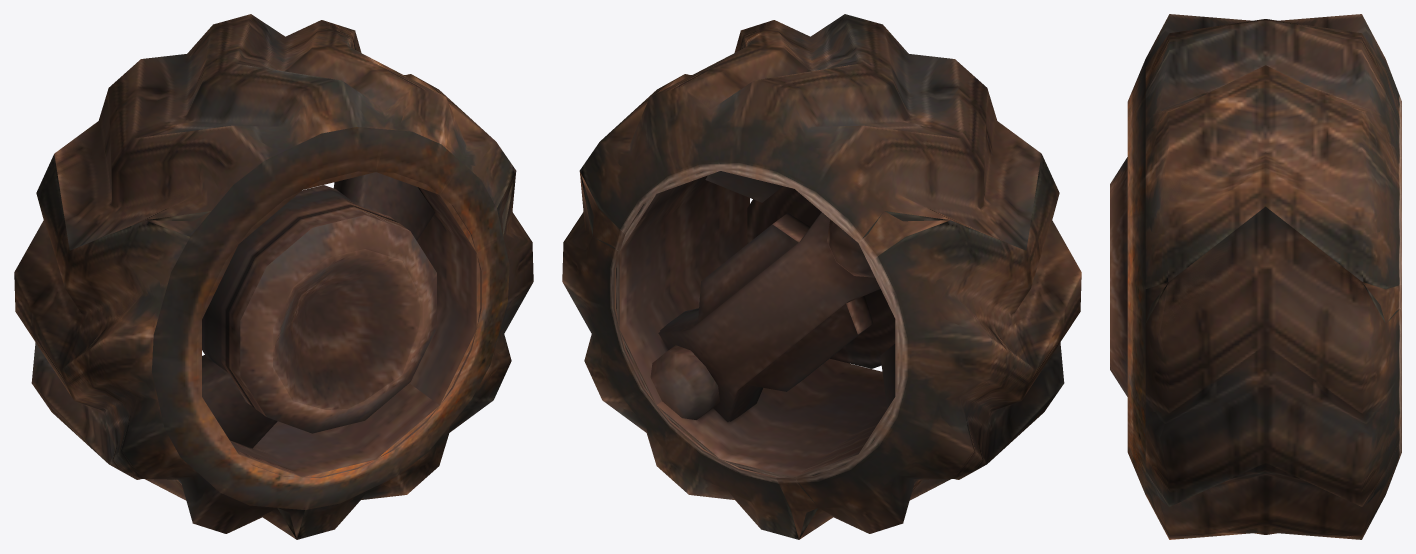
Rendered from Cheetah_WheelBackRight.DAE.
3 renders of one model, left to right at view 1: azimuth 30°, elevation 25°; view 2: azimuth 150°, elevation 25°; view 3: azimuth 270°, elevation 25°, orthographic. The views are drawn at different scales.
Visible parts, largest first — view 1: TireBack_LOD300, TireBack_LOD100, TireBack_LOD200; view 2: TireBack_LOD300, TireBack_LOD100, TireBack_LOD200; view 3: TireBack_LOD300, TireBack_LOD200.
Part boxes in pixels (x1,y1,x2,y2): TireBack_LOD300: (14, 14, 533, 539); TireBack_LOD100: (202, 175, 476, 459); TireBack_LOD200: (15, 14, 532, 539); TireBack_LOD300: (562, 14, 1081, 539); TireBack_LOD100: (619, 171, 895, 477); TireBack_LOD200: (563, 14, 1058, 539); TireBack_LOD300: (1110, 15, 1401, 539); TireBack_LOD200: (1110, 14, 1401, 539).
Size of what is drawn, in the model's own units: 1.68 by 0.9379 by 1.68.
1 material, 1 textured.
